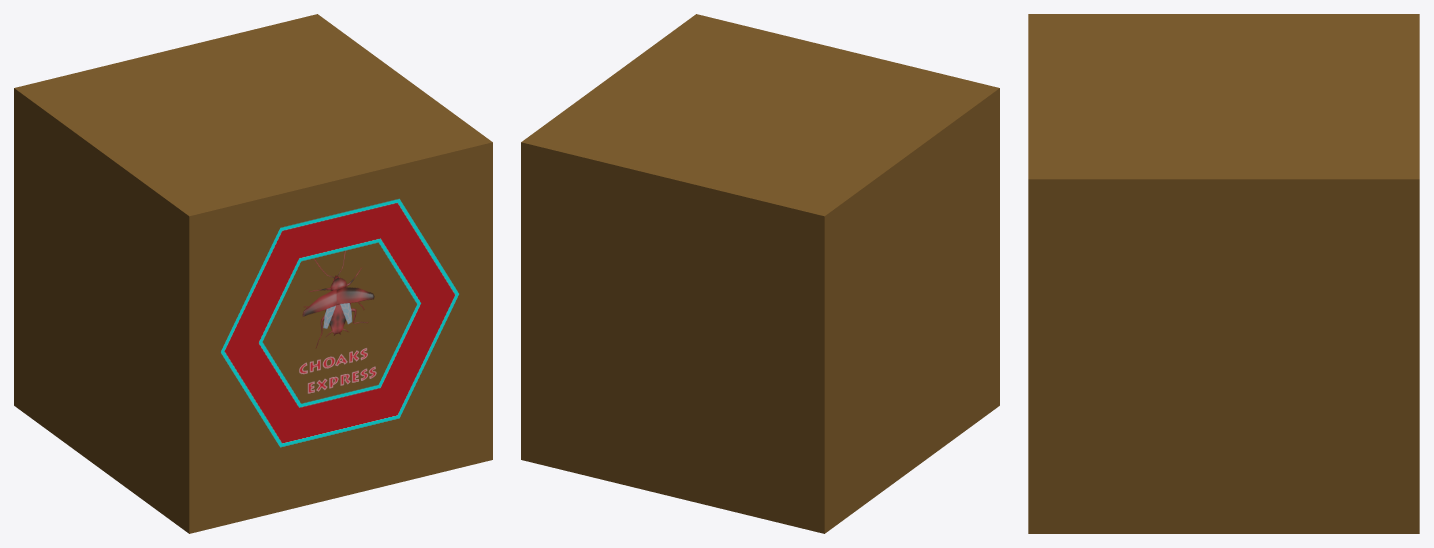
File: KS_Kardus_Close.fbx
The picture shows the model from 3 angles, left to right: view 1: azimuth 30°, elevation 25°; view 2: azimuth 150°, elevation 25°; view 3: azimuth 270°, elevation 25°; orthographic projection. The views are drawn at different scales.
Visible parts, largest first — view 1: KS_Kardus_Close; view 2: KS_Kardus_Close; view 3: KS_Kardus_Close.
Boxes of the visible parts, box(x1,y1,x2,y2) form: KS_Kardus_Close: box(14, 14, 492, 533); KS_Kardus_Close: box(521, 14, 999, 533); KS_Kardus_Close: box(1028, 14, 1419, 533).
Bounding box in the file's own units: 100 × 100 × 100.
